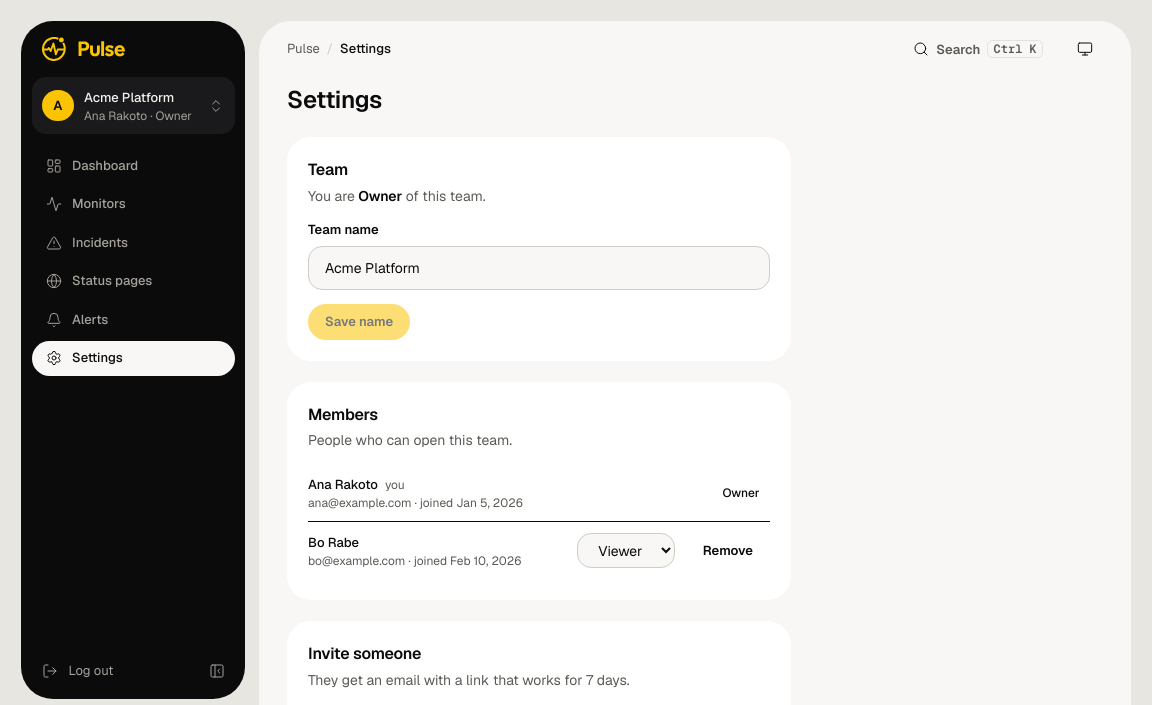
Test: Settings: team › shows the reason inside the dialog when the server refuses
The image size is (1152, 705).
Click the button "Remove": coordinates (728, 550) [686,532,770,568]
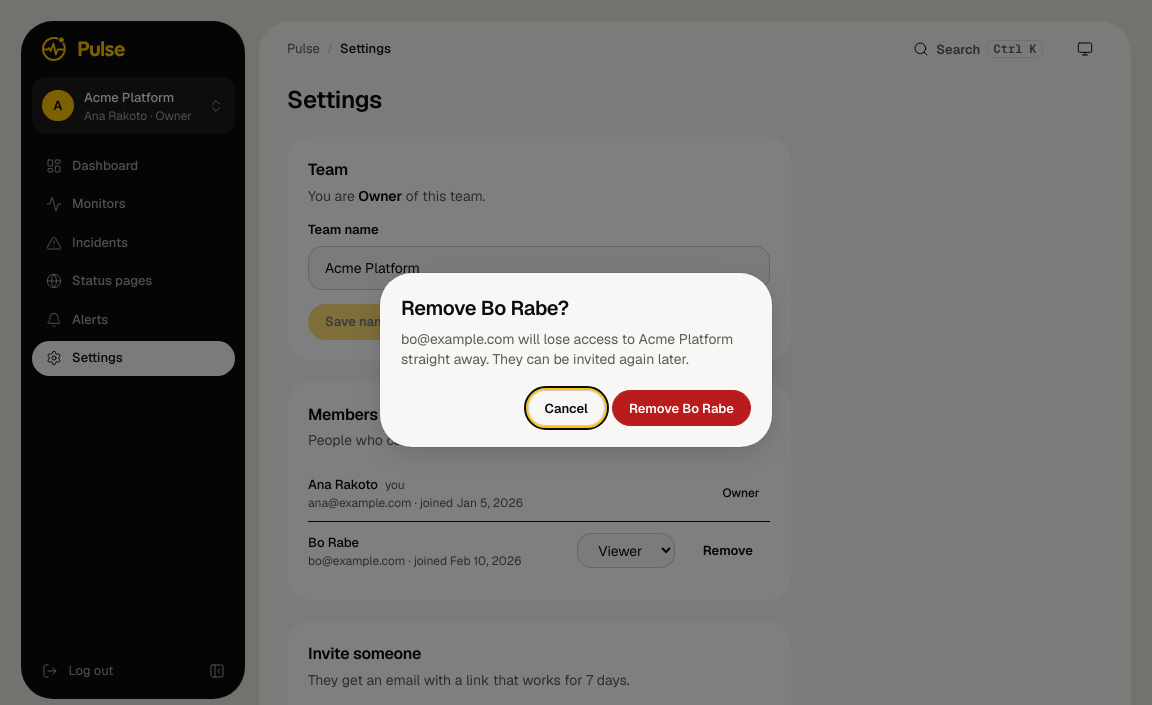
Click the button "Remove Bo Rabe": coordinates (682, 408) [612,390,751,426]
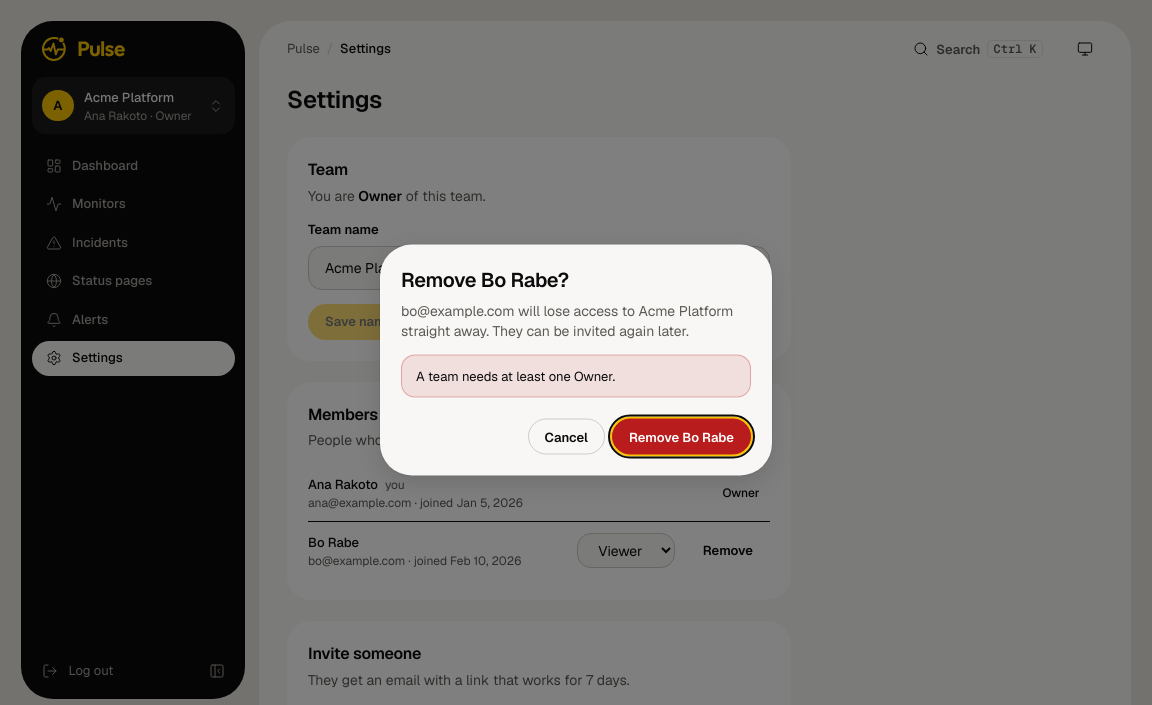
Expected: the text "A team needs at least one Owner." is shown, [401,354,751,398]
